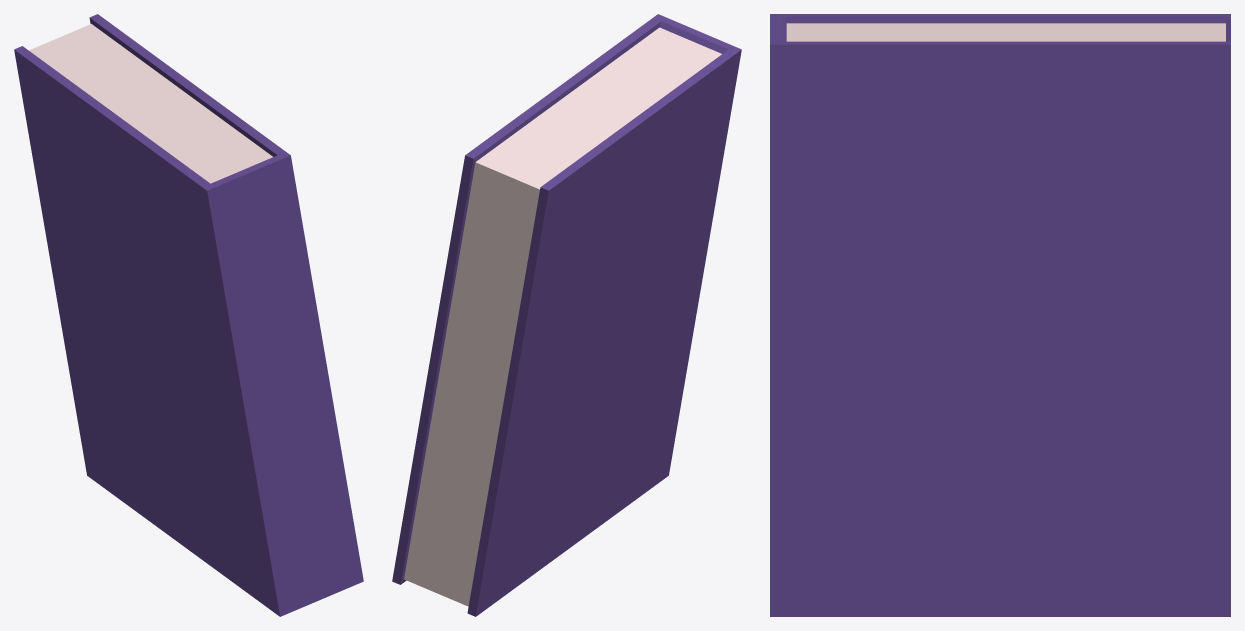
The model's file is Living_Room_book9.fbx.
3 renders of one model, left to right at view 1: azimuth 30°, elevation 25°; view 2: azimuth 150°, elevation 25°; view 3: azimuth 270°, elevation 25°, orthographic. The views are drawn at different scales.
Parts seen in each view (by area): view 1: Living_Room_book9; view 2: Living_Room_book9; view 3: Living_Room_book9.
Boxes of the visible parts, x1,y1,x2,y2 form: Living_Room_book9: [14, 14, 363, 616]; Living_Room_book9: [392, 14, 741, 616]; Living_Room_book9: [770, 14, 1230, 616].
Size of the model in its own units: 8.98 by 19.16 by 25.13.
